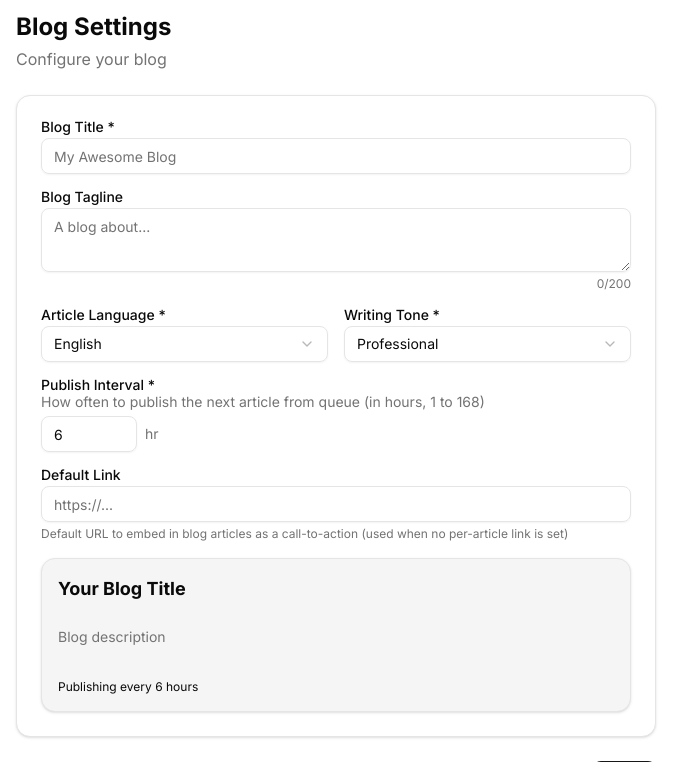
Test case: Blog › shows preview card updating in real-time
Type "Test Blog" into the field with placeholder "My Awesome Blog".
click(336, 156); type("Test Blog")  # box [41,138,631,174]
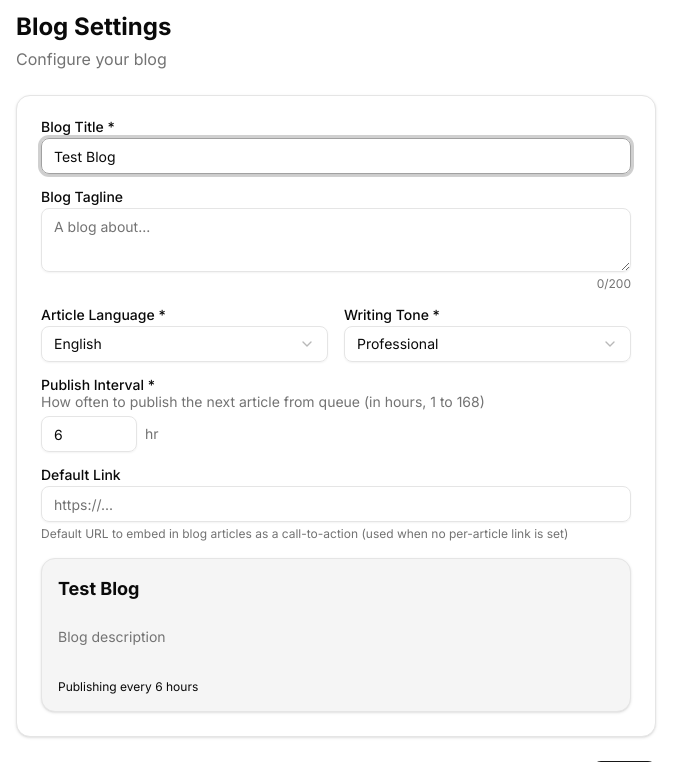
Check: the heading "Test Blog" is shown, box [58,578,140,599]
